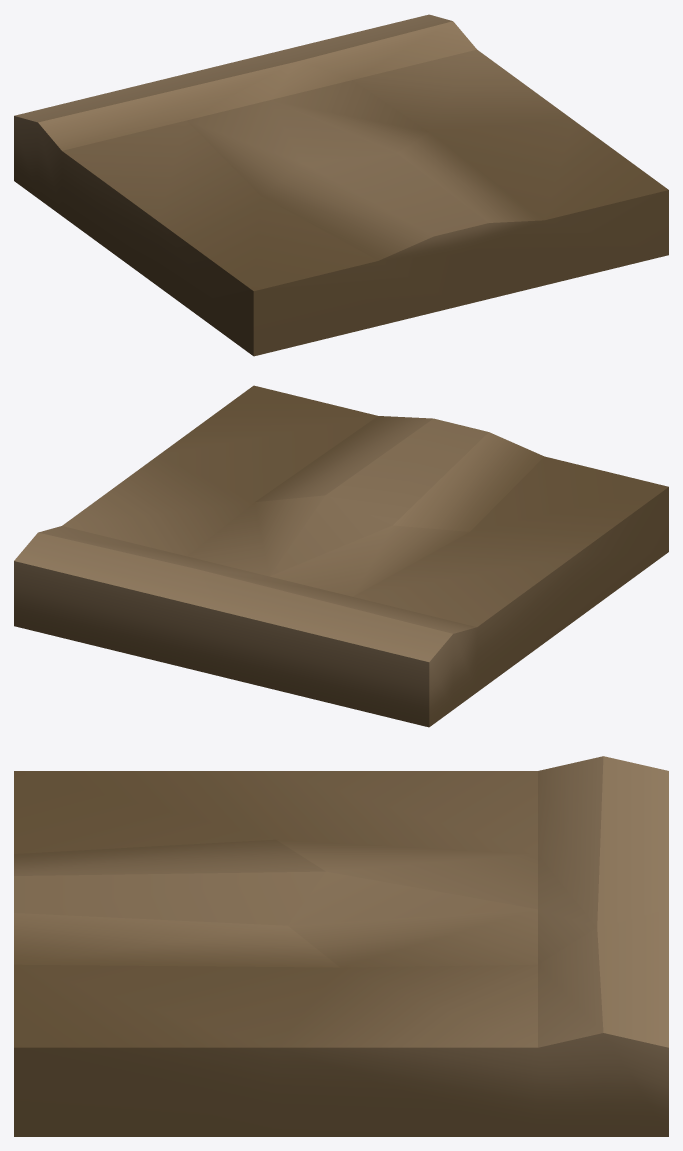
The model's file is Farmland_Soil_EdgeTop.fbx.
3 renders of one model, top to bottom at view 1: azimuth 30°, elevation 25°; view 2: azimuth 150°, elevation 25°; view 3: azimuth 270°, elevation 25°, orthographic. The views are drawn at different scales.
Parts seen in each view (by area): view 1: Farmland_Soil_EdgeTop; view 2: Farmland_Soil_EdgeTop; view 3: Farmland_Soil_EdgeTop.
Part boxes in pixels (box(x1,y1,x2,y2)): Farmland_Soil_EdgeTop: box(14, 14, 668, 356); Farmland_Soil_EdgeTop: box(14, 385, 668, 727); Farmland_Soil_EdgeTop: box(14, 756, 668, 1136).
Bounding box in the file's own units: 2 × 0.35 × 2.
1 material, 1 textured.
